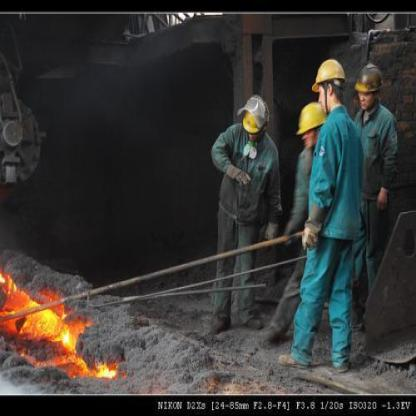capacete: (310, 56, 349, 94), (294, 102, 326, 138), (355, 65, 386, 97)
